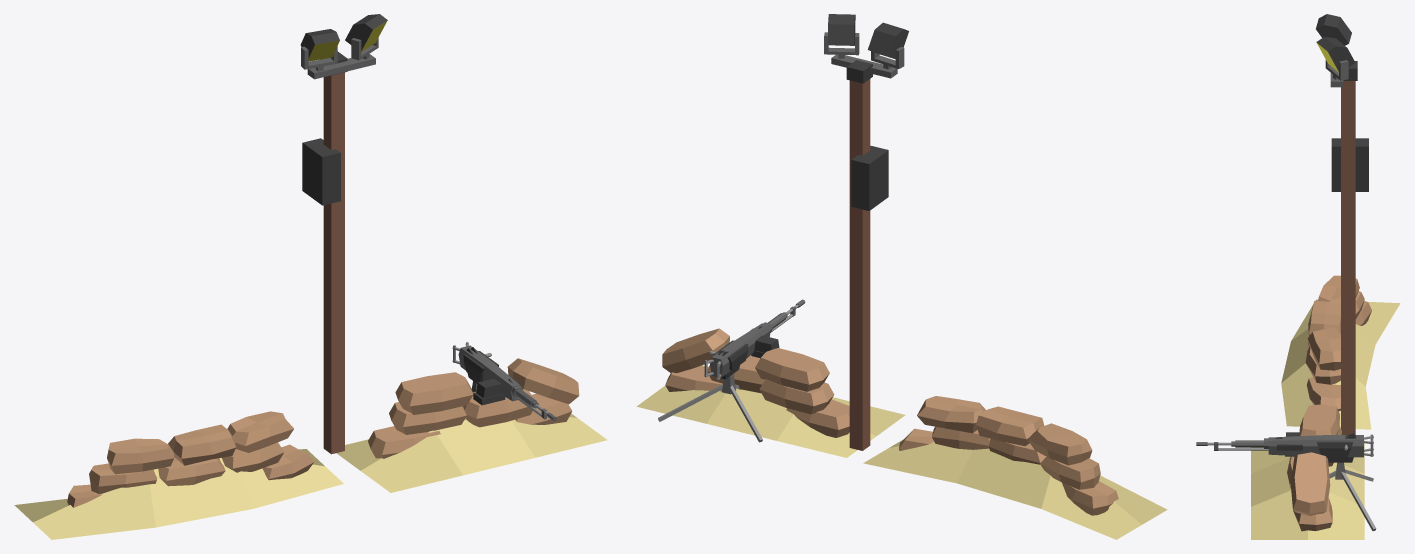
File: military3d.glb
The picture shows the model from 3 angles, left to right: view 1: azimuth 30°, elevation 25°; view 2: azimuth 150°, elevation 25°; view 3: azimuth 270°, elevation 25°; orthographic projection. The views are drawn at different scales.
Parts seen in each view (by area): view 1: Plane, Cube.013, Cube; view 2: Plane, Cube.013, Cube; view 3: Cube.013, Plane, Cube.
Part boxes in pixels (x1,y1,x2,y2): Plane: (14, 411, 343, 539); Cube.013: (336, 342, 607, 492); Cube: (300, 14, 387, 454); Plane: (863, 396, 1167, 539); Cube.013: (636, 299, 905, 457); Cube: (824, 14, 908, 450); Cube.013: (1196, 404, 1376, 539); Plane: (1281, 275, 1400, 429); Cube: (1316, 14, 1368, 434).
Size of the model in its own units: 1129 by 915 by 409.
